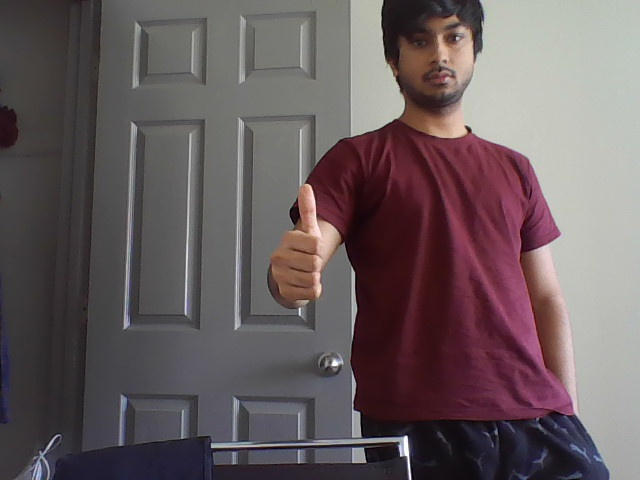confirm: (269, 180, 327, 307)
